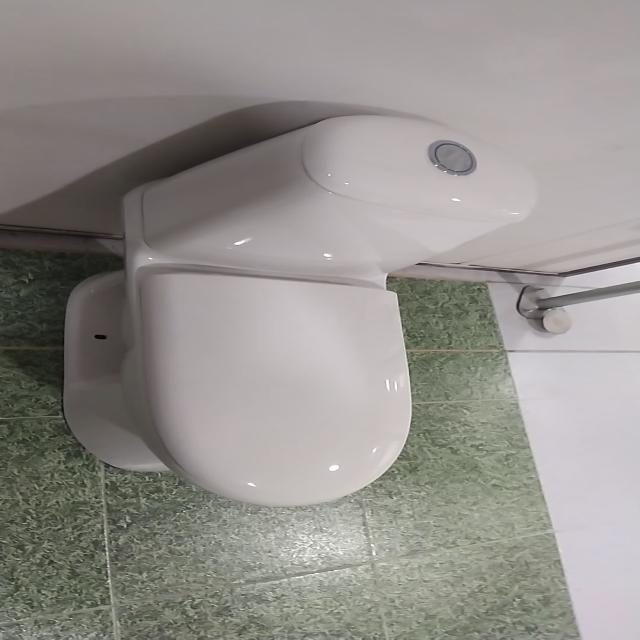toilet: (56, 107, 554, 510)
